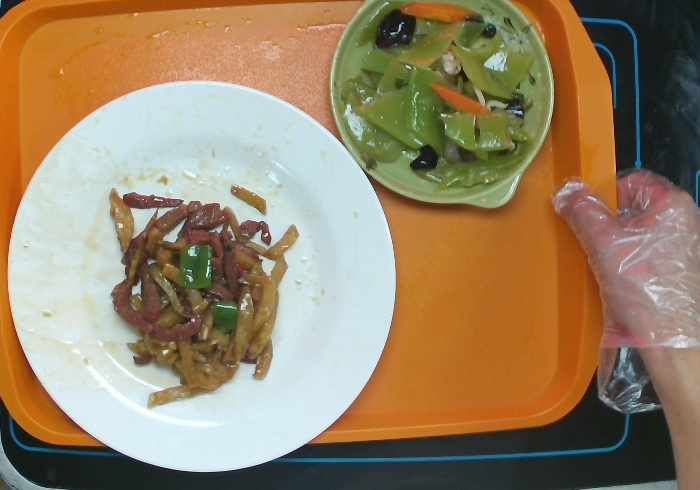NLDX-Da_Yuan_Pan: (3, 76, 401, 475)
NLDX-Lv_Hua_Shuang_Er_Die: (323, 1, 558, 213)
